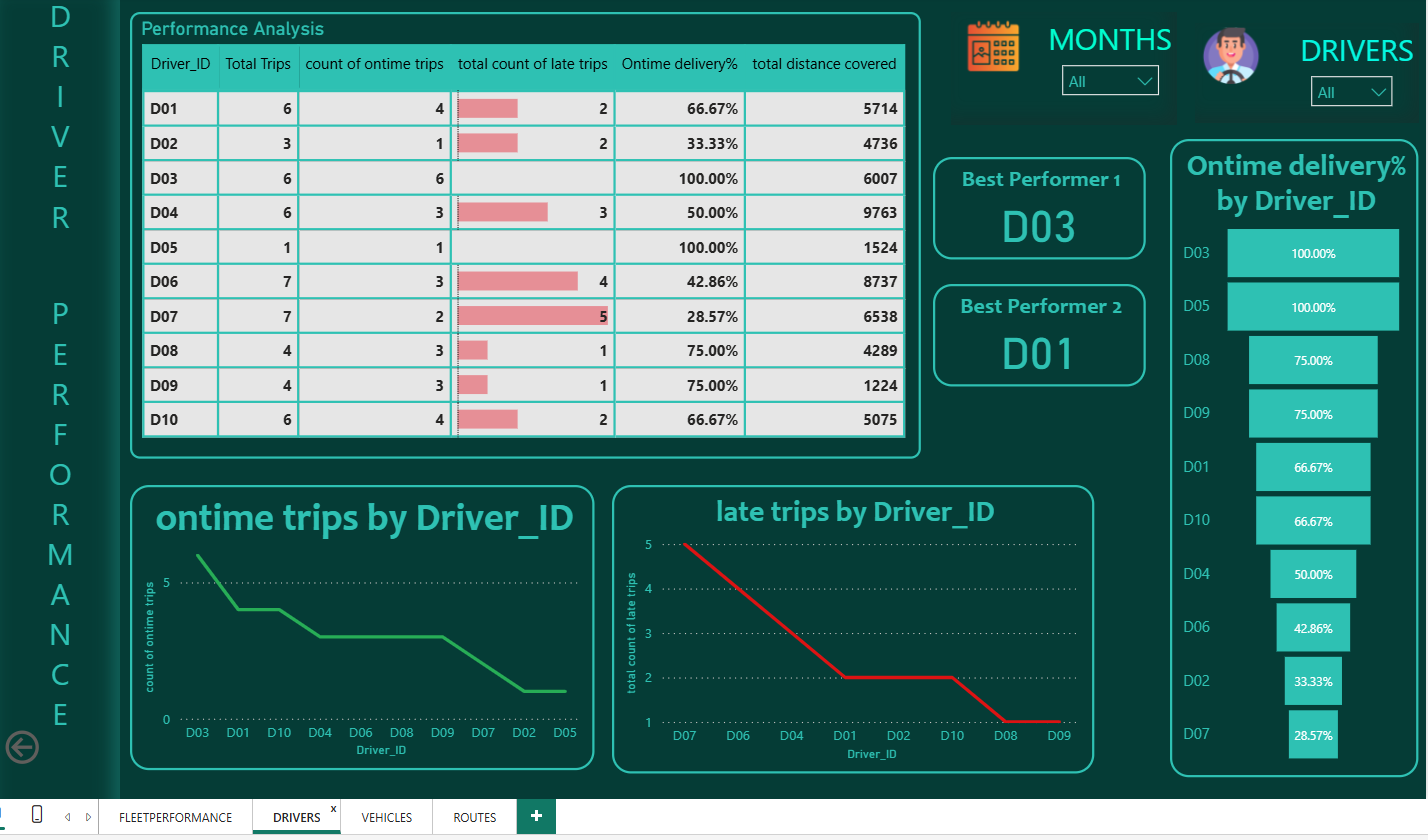

The page's visual inventory and layout, read from the dashboard file:
{"tool":"powerbi","page":{"name":"DRIVERS","canvas":[1280,720],"ordinal":1},"visuals":[{"type":"textbox","box":[0,0,108,1079.6],"z":0},{"type":"textbox","box":[1072.8,23.3,201.3,90.5],"z":0,"group":"g1"},{"type":"tableEx","title":"Performance Analysis","fields":{"Values":["Table1.Driver_ID","measure.Total Trips","measure.count of ontime trips","measure.total count of late trips","measure.Ontime delivery%","measure.total distance covered"]},"box":[116.7,13.6,710,400.7],"z":1000},{"type":"textbox","box":[854,13.6,203.3,101.2],"z":2000,"group":"g2"},{"type":"group","id":"g1","title":"Group 1","box":[1072.8,23.3,201.3,90.5],"z":2000},{"type":"group","id":"g2","title":"Group 2","box":[850.1,13.6,207.2,101.2],"z":3000},{"type":"slicer","fields":{"Values":["Table1.Delivery_Date.Variation.Date Hierarchy.Month"]},"box":[943.5,51.5,107,41.8],"z":3000,"group":"g2"},{"type":"slicer","fields":{"Values":["Table1.Driver_ID"]},"box":[1167.3,60.9,93.4,42.8],"z":3000,"group":"g1"},{"type":"actionButton","box":[1073.2,23.7,65.4,58.8],"z":4000,"group":"g1"},{"type":"lineChart","title":"ontime trips by Driver_ID","fields":{"Y":["measure.count of ontime trips"],"Category":["Table1.Driver_ID"]},"box":[116.7,437.7,417.3,255.8],"z":4000},{"type":"lineChart","title":" late trips by Driver_ID","fields":{"Category":["Table1.Driver_ID"],"Y":["measure.total count of late trips"]},"box":[549.5,437.7,432.8,258.7],"z":5000},{"type":"card","title":"Best Performer 1","fields":{"Values":["Min(Table1.Driver_ID)"]},"box":[837.4,144,190.6,92.4],"z":6000},{"type":"actionButton","box":[850.1,14,82.7,61.3],"z":7000,"group":"g2"},{"type":"actionButton","box":[0,653.6,100.2,39.9],"z":7000},{"type":"card","title":"Best Performer 2","fields":{"Values":["Min(Table1.Driver_ID)"]},"box":[837.4,257.8,190.6,92.4],"z":8000},{"type":"funnel","fields":{"Category":["Table1.Driver_ID"],"Y":["measure.Ontime delivery%"]},"box":[1050.5,127.4,222.7,572.9],"z":9000}]}

Visuals, with their boxes on the page's 1280x720 design canvas (x1, y1, x2, y2). These are canvas units, not pixel positions in the 1428x840 screenshot, which may show the page scaled, cropped or inside an application window:
textbox: bbox=[0, 0, 108, 1080]
textbox: bbox=[1073, 23, 1274, 114]
"Performance Analysis" tableEx: bbox=[117, 14, 827, 414]
textbox: bbox=[854, 14, 1057, 115]
"Group 1" group: bbox=[1073, 23, 1274, 114]
"Group 2" group: bbox=[850, 14, 1057, 115]
slicer - Table1.Delivery_Date.Variation.Date Hierarchy.Month: bbox=[944, 52, 1050, 93]
slicer - Table1.Driver_ID: bbox=[1167, 61, 1261, 104]
actionButton: bbox=[1073, 24, 1139, 82]
"ontime trips by Driver_ID" lineChart: bbox=[117, 438, 534, 694]
" late trips by Driver_ID" lineChart: bbox=[550, 438, 982, 696]
"Best Performer 1" card: bbox=[837, 144, 1028, 236]
actionButton: bbox=[850, 14, 933, 75]
actionButton: bbox=[0, 654, 100, 694]
"Best Performer 2" card: bbox=[837, 258, 1028, 350]
funnel - Table1.Driver_ID x measure.Ontime delivery%: bbox=[1050, 127, 1273, 700]
